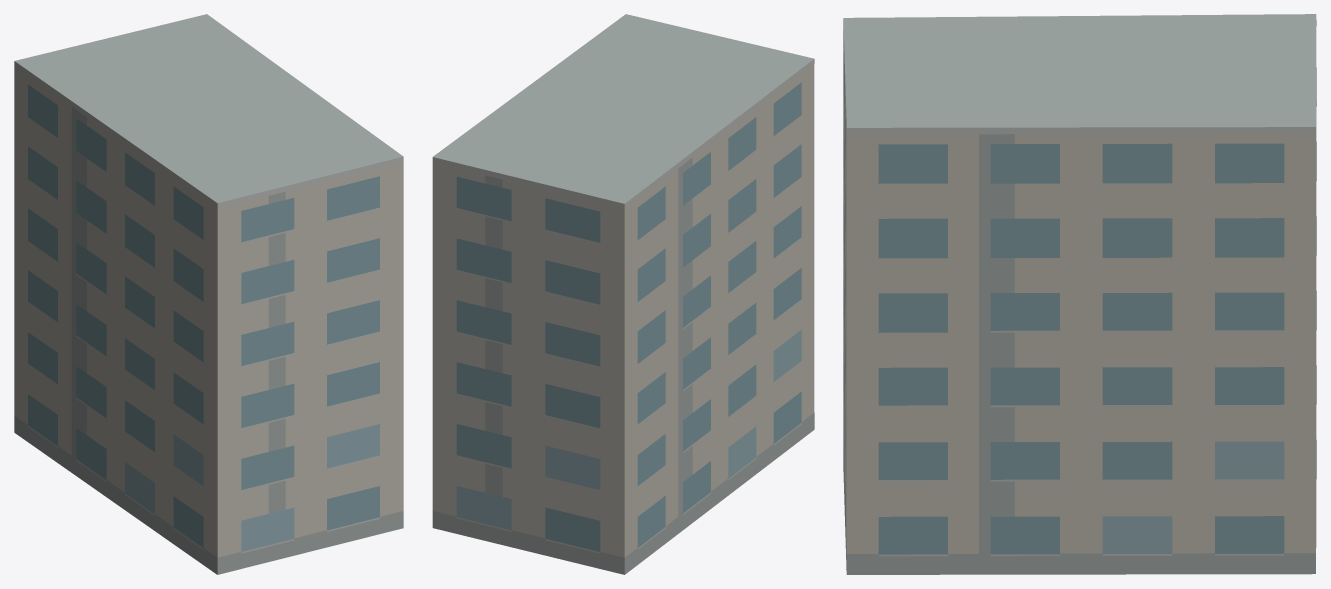
Rendered from survey-upis-32569129.glb.
The picture shows the model from 3 angles, left to right: view 1: azimuth 30°, elevation 25°; view 2: azimuth 150°, elevation 25°; view 3: azimuth 270°, elevation 25°; orthographic projection. The views are drawn at different scales.
Visible parts, largest first — view 1: survey-upis-32569129.tmp; view 2: survey-upis-32569129.tmp; view 3: survey-upis-32569129.tmp.
Part boxes in pixels (bbox=[...]): survey-upis-32569129.tmp: bbox=[14, 14, 403, 574]; survey-upis-32569129.tmp: bbox=[432, 14, 814, 574]; survey-upis-32569129.tmp: bbox=[843, 14, 1316, 574].
Size of the model in its own units: 9.08 by 16.6 by 15.93.
